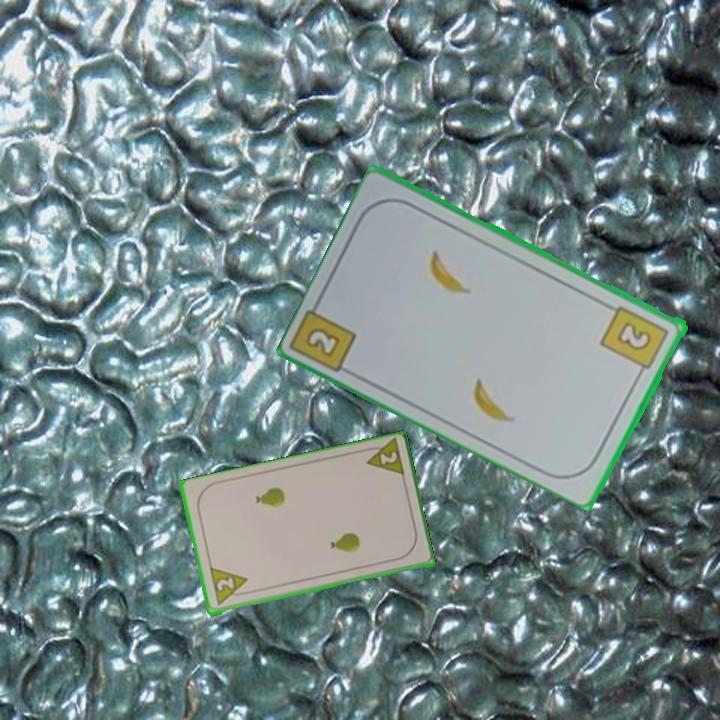2b: (598, 302, 672, 379), (302, 324, 344, 360)
2p: (359, 437, 407, 481), (206, 565, 252, 609)
